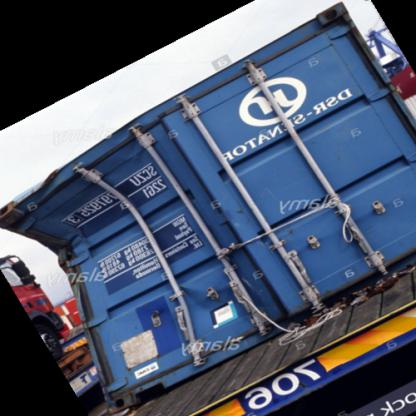Damage: (0, 153, 266, 378)
